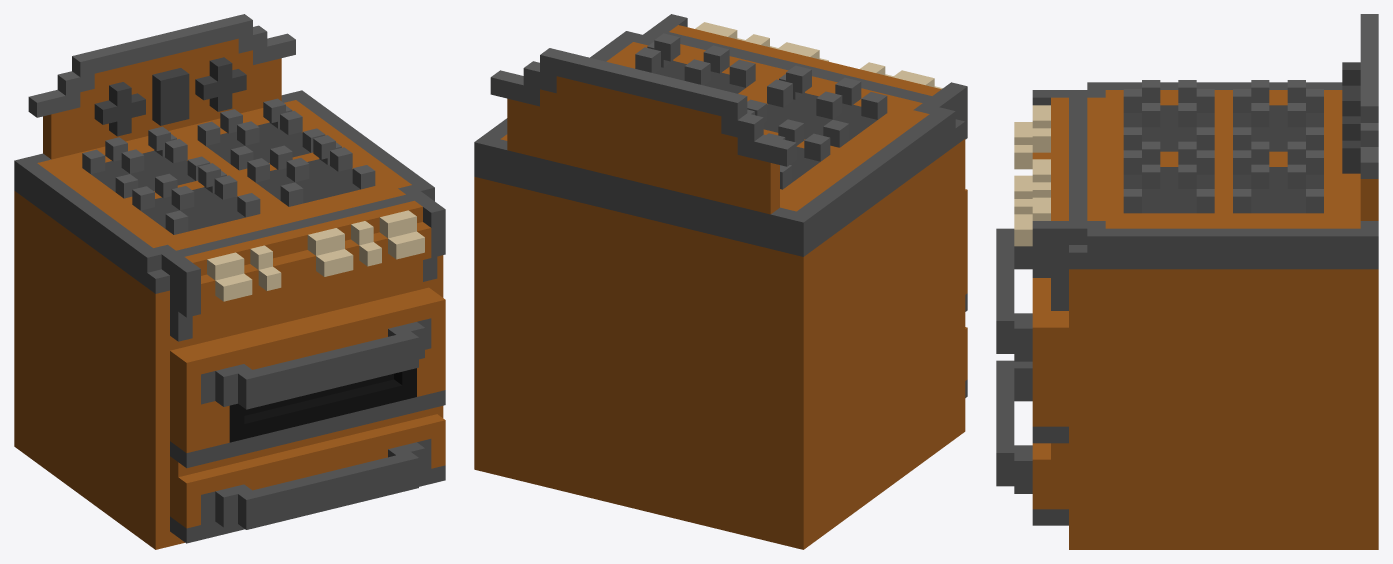
The model's file is Kitchen_TableV4.obj.
3 views of the same model, side by side, from view 1: azimuth 30°, elevation 25°; view 2: azimuth 150°, elevation 25°; view 3: azimuth 270°, elevation 25° (orthographic). The views are drawn at different scales.
Size of the model in its own units: 2 by 2.5 by 2.1.
1 material, 1 textured.
